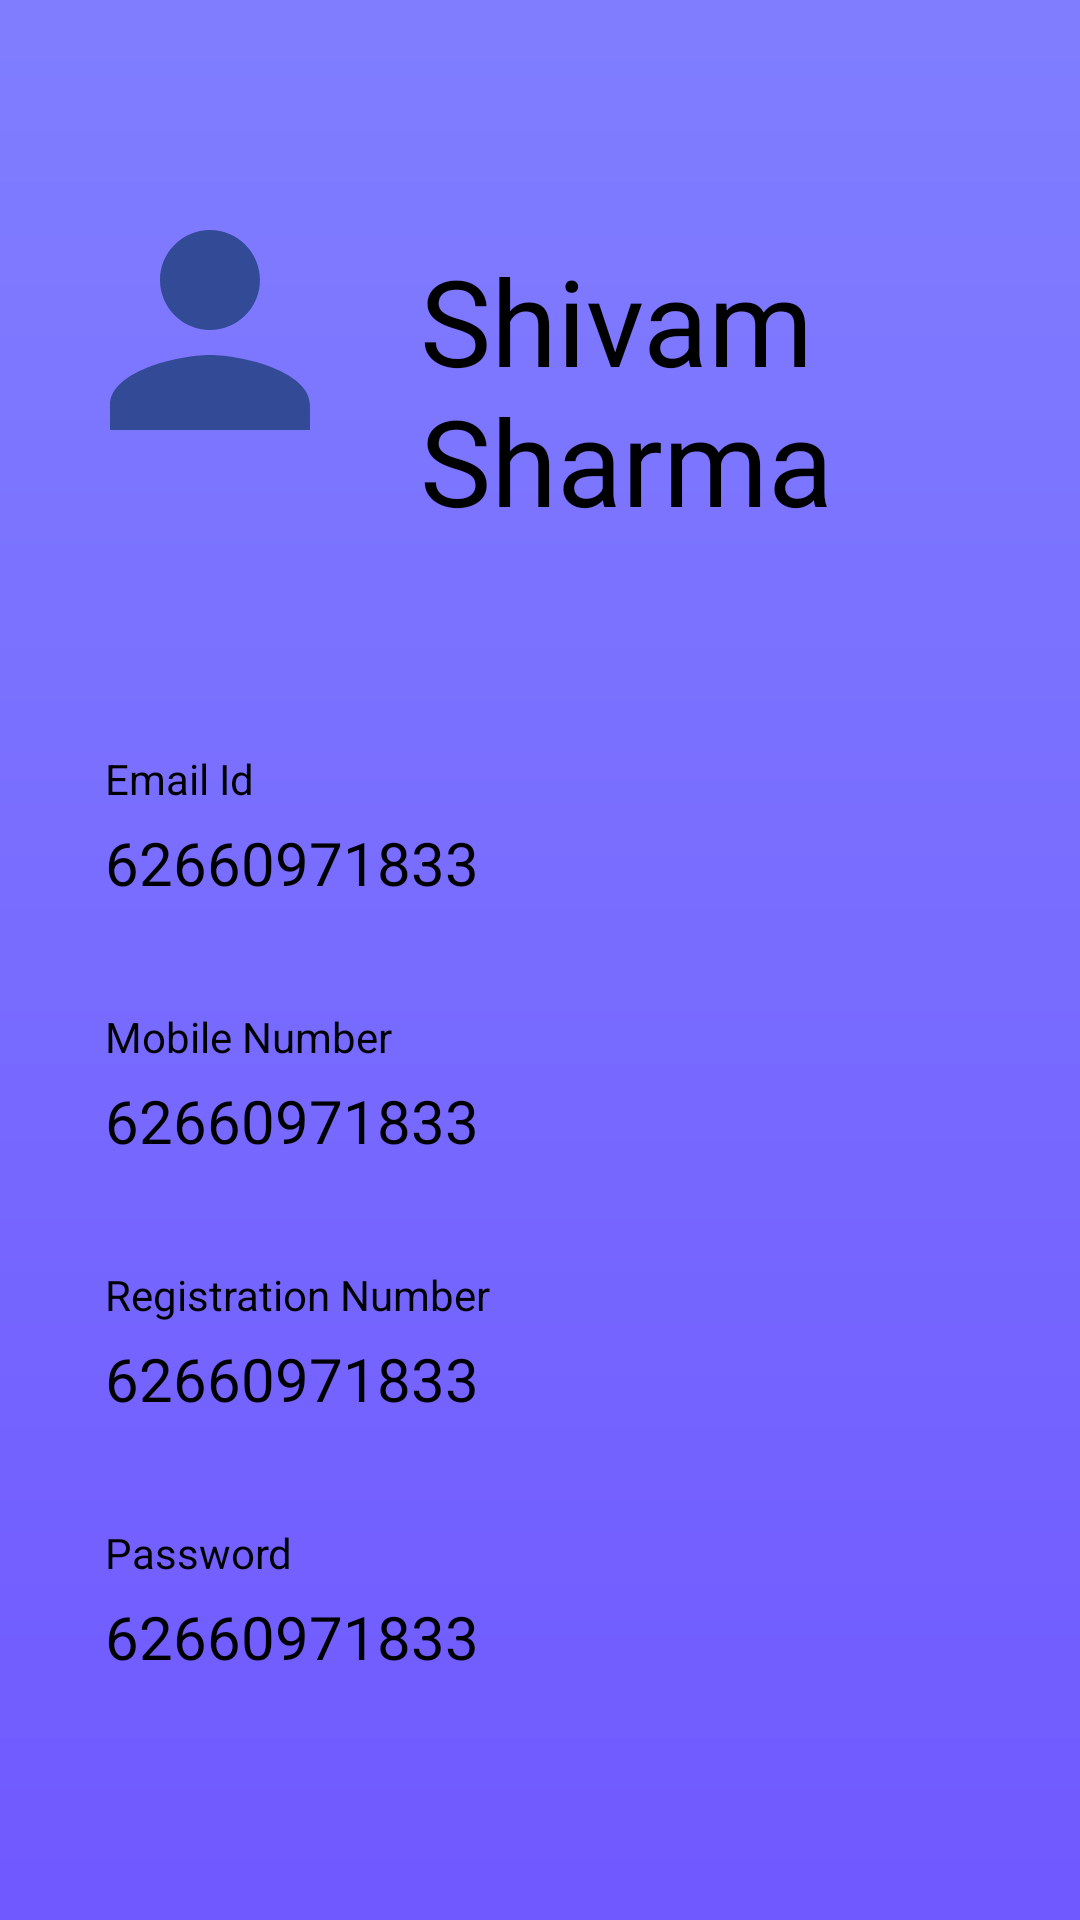

Locate icon controls on the screen. Image size 1080w x 1920h, boxes as [x1=x1, y1=y1, x2=x2, y2=y2].
person: [x1=110, y1=230, x2=310, y2=430]
